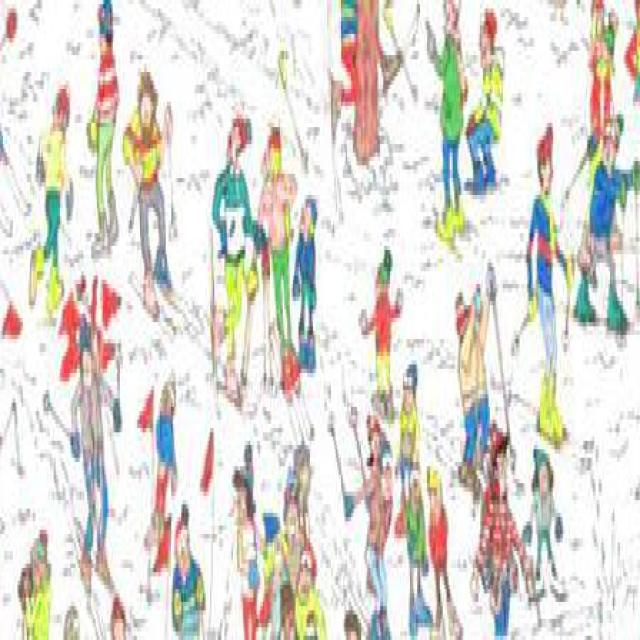waldo: (490, 424, 509, 487)
